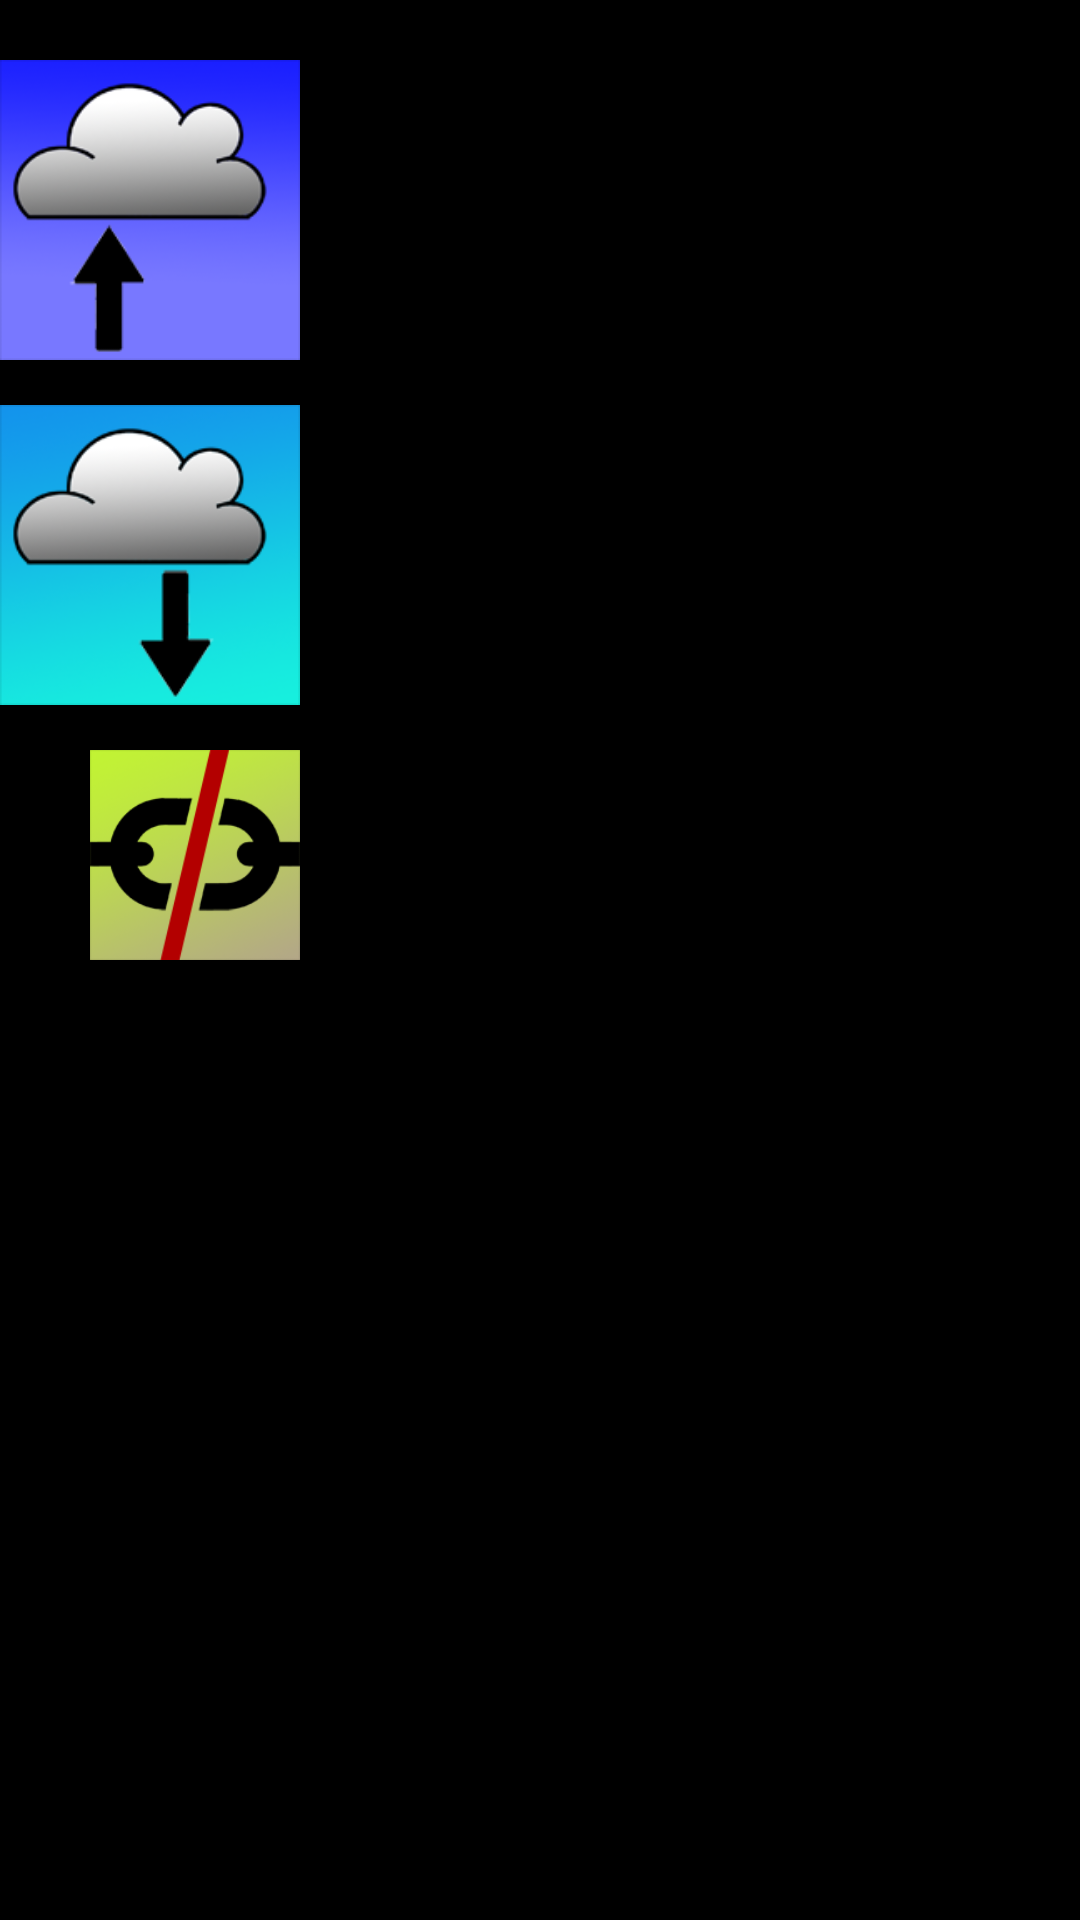

Icons on this 1080*1920 Android screen, each with the point to tap as point (x, y):
download: point (150, 555)
unlink: point (195, 855)
upload: point (150, 210)
